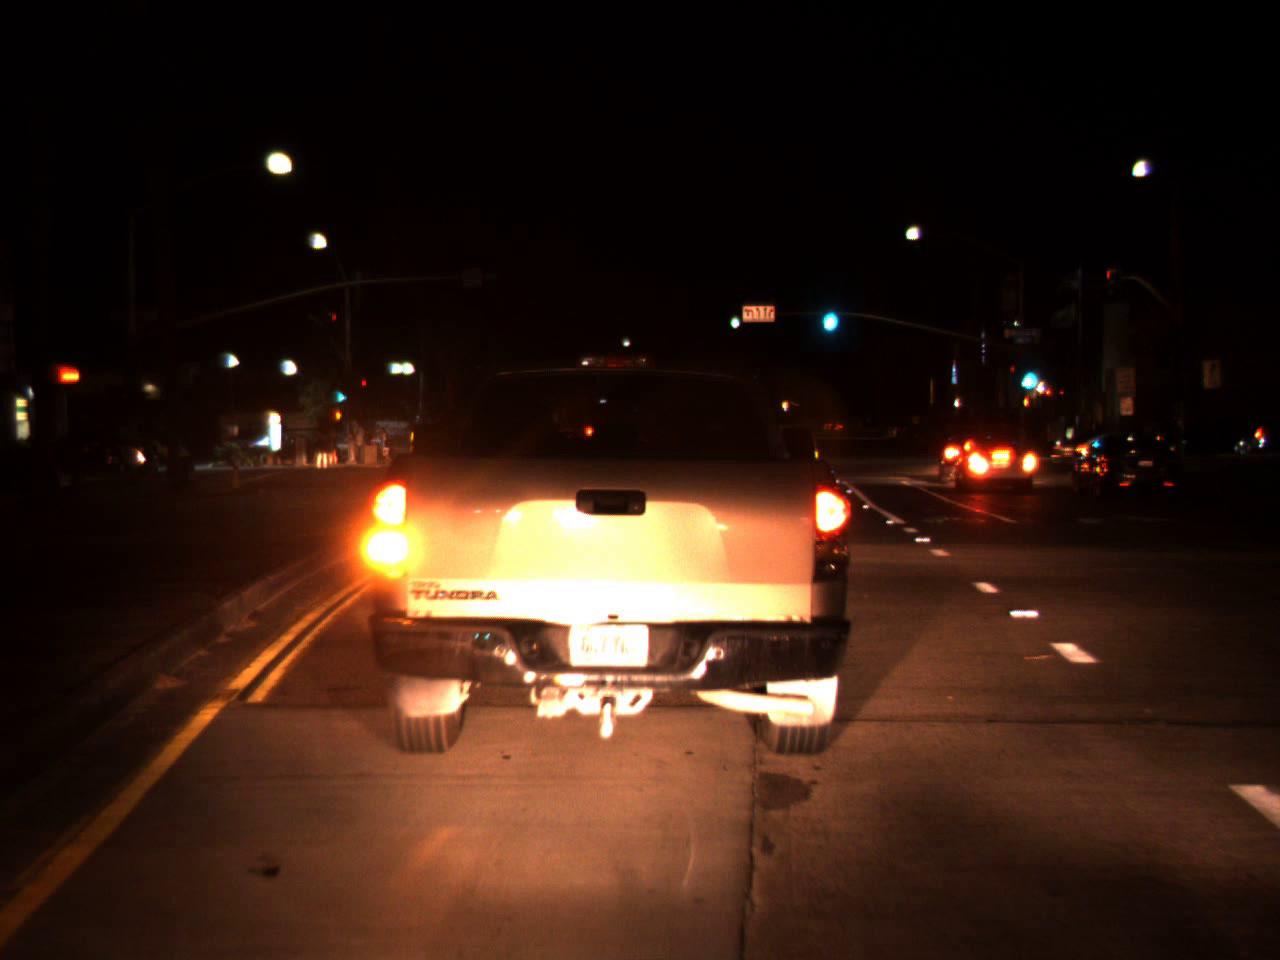go: (1014, 349, 1041, 397), (817, 290, 840, 338), (331, 375, 347, 405), (727, 307, 741, 328)
